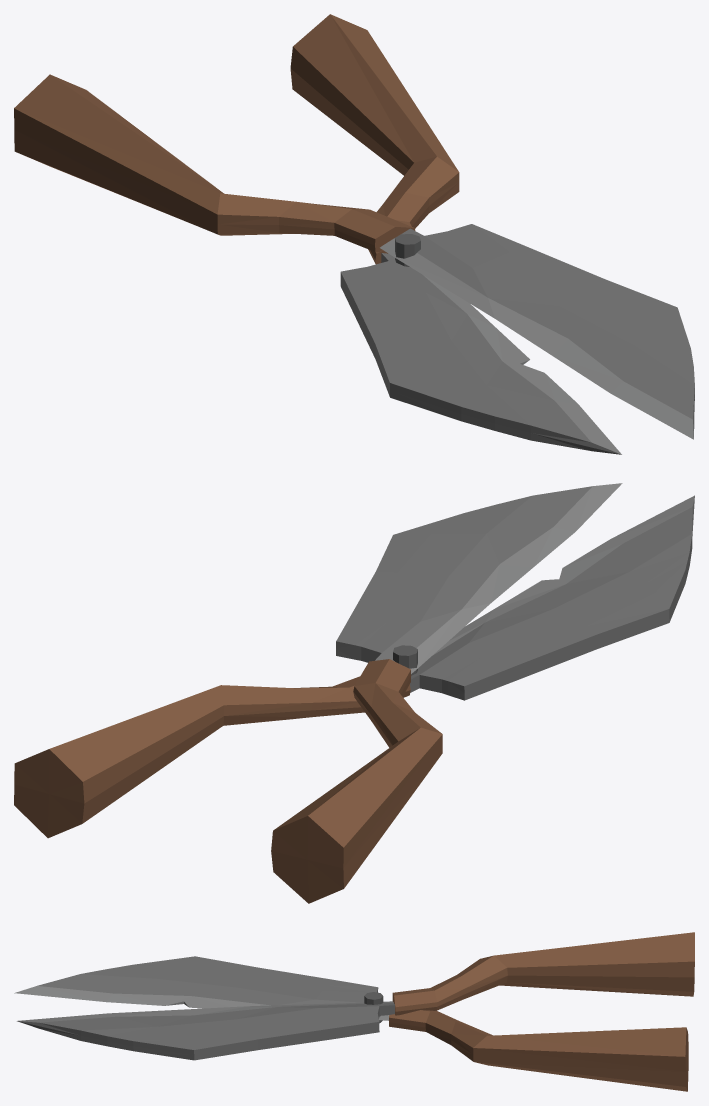
The model's file is SFHW_Scissor.fbx.
3 views of the same model, one above another, from view 1: azimuth 30°, elevation 25°; view 2: azimuth 150°, elevation 25°; view 3: azimuth 270°, elevation 25° (orthographic). The views are drawn at different scales.
Parts seen in each view (by area): view 1: SFHW_Scissor; view 2: SFHW_Scissor; view 3: SFHW_Scissor.
Part boxes in pixels (x1,y1,x2,y2): SFHW_Scissor: [14, 14, 694, 454]; SFHW_Scissor: [14, 483, 694, 903]; SFHW_Scissor: [14, 932, 694, 1091].
Bounding box in the file's own units: 17.66 × 4.58 × 42.86.
